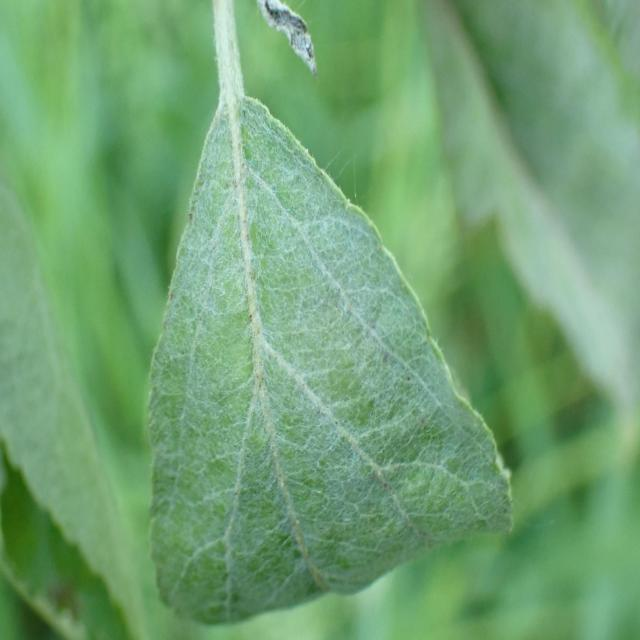Powdery_mildew: (145, 54, 519, 625)
